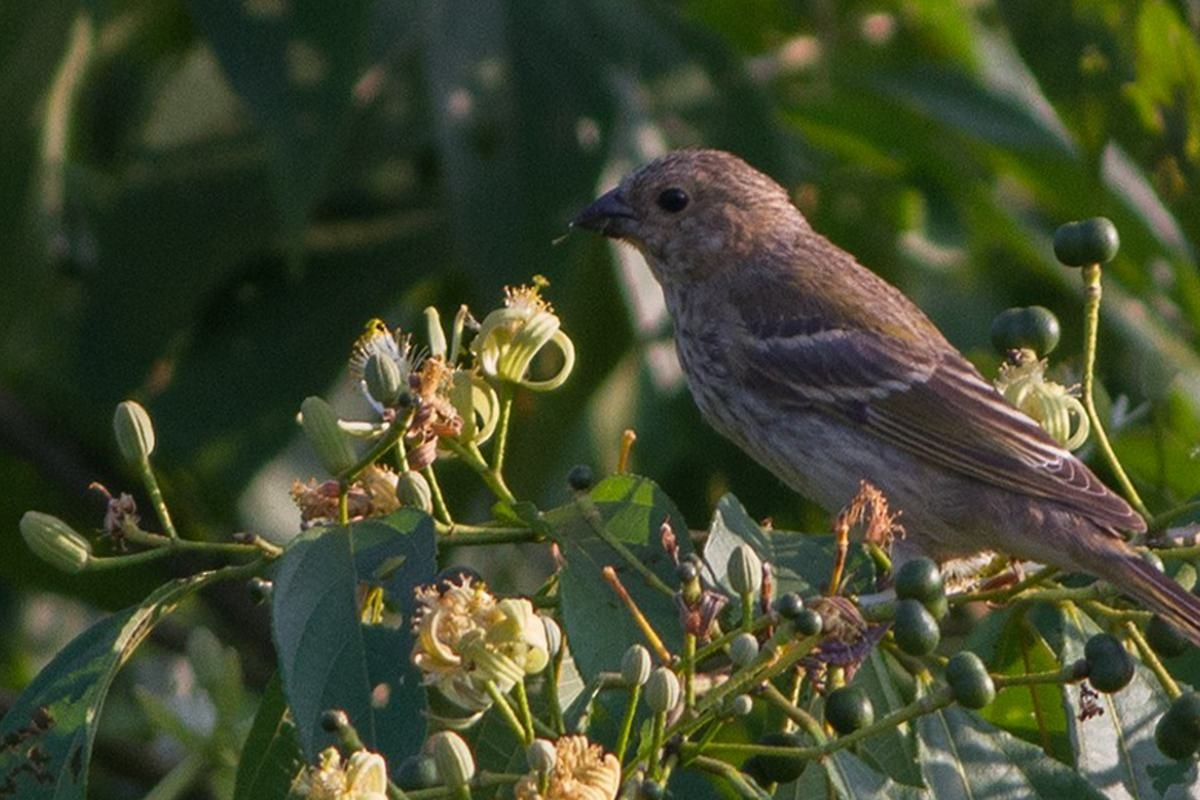rosefinch: (568, 125, 1116, 576)
